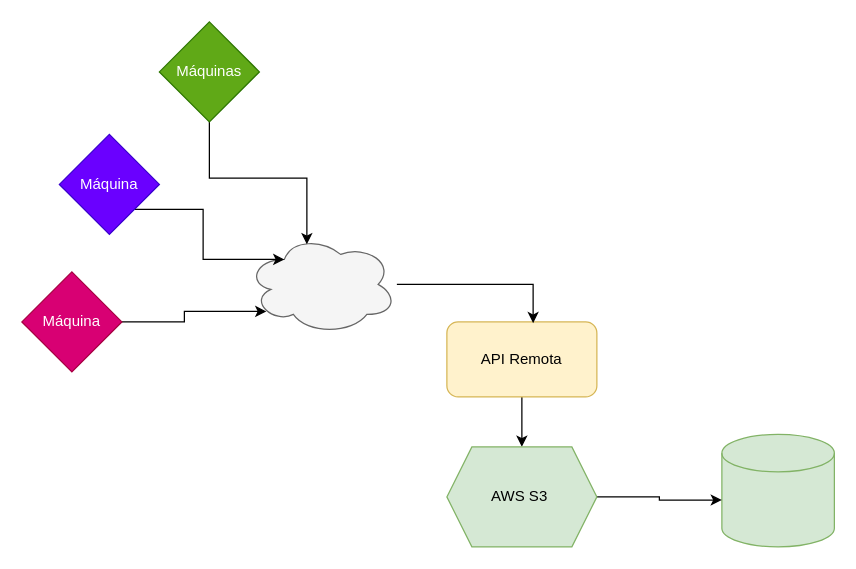
This 856x569 diagram has some shape labels left out. The centre of each missing label's shape, as x and y in pixels:
"Bucket (local onde es´ta as fotos)" goes at pixel 777 490.
"Internet" goes at pixel 321 283.
